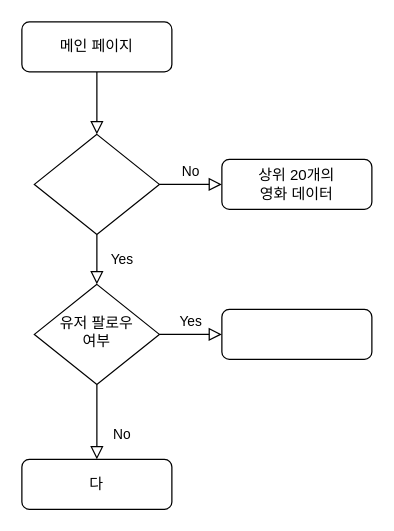
This 394x531 diagram has some shape labels left out. The centre of each missing label's shape, as x and y in pixels:
"Replace Bulb" goes at point 296,333.
"로그인 여부" goes at point 96,183.
